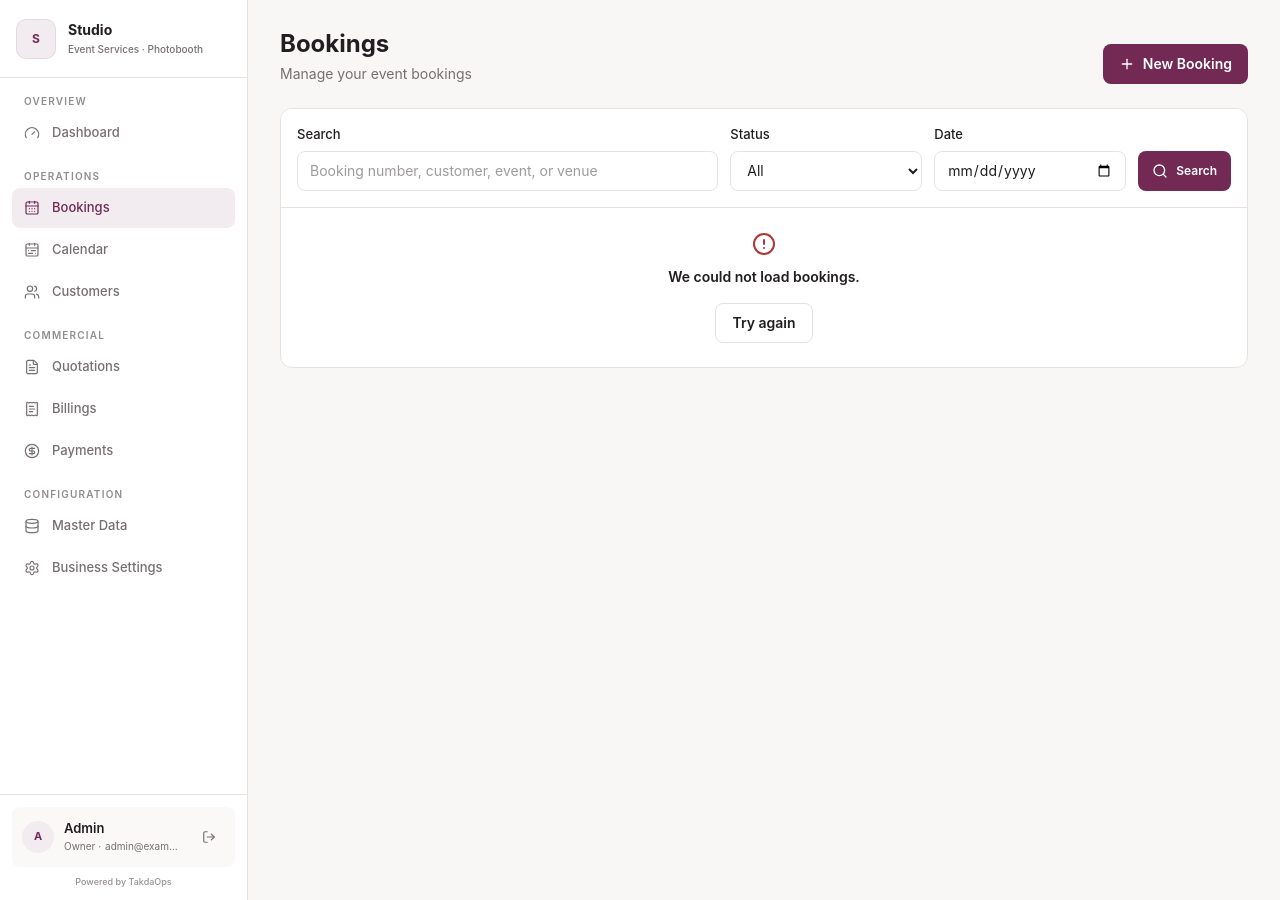
it: shows a recoverable list error state
Expected: the text "We could not load bookings." is shown, [668,266,860,286]
Click the button "Try again".
click(764, 322)  # box [716,302,813,342]
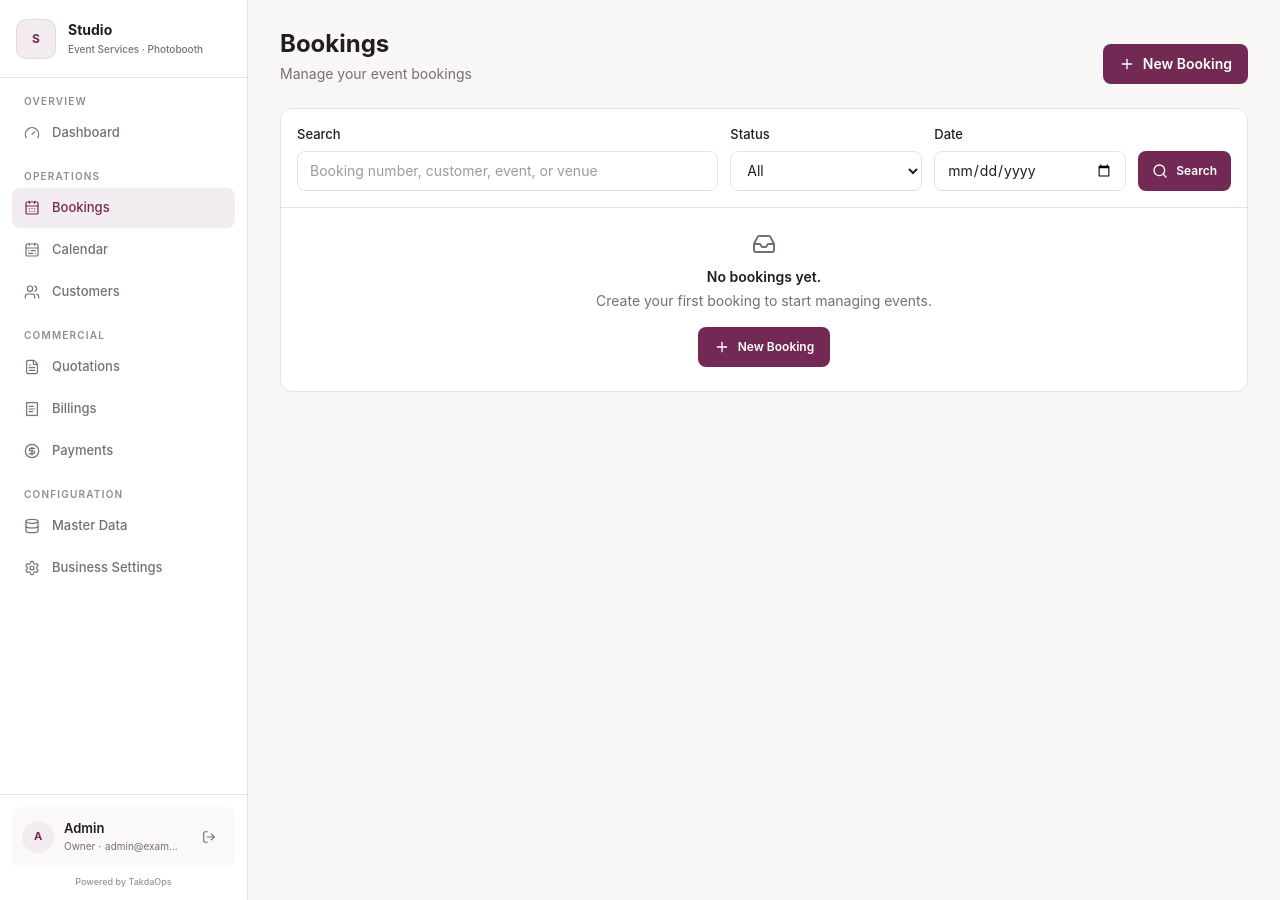
Now the text "No bookings yet." is shown, box [707,268,821,284]
